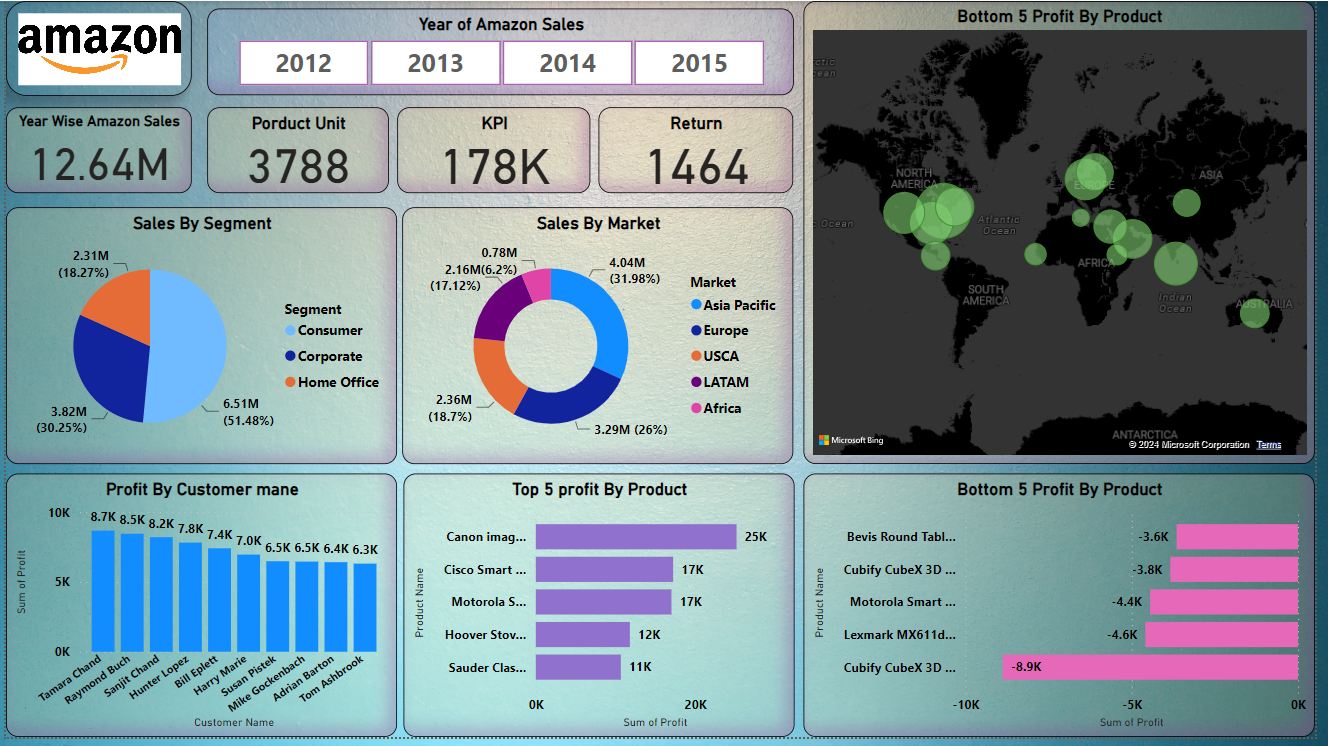

This screenshot's page, from the dashboard's own definition file:
{"tool":"powerbi","page":{"name":"Page 1","canvas":[1280,720],"ordinal":0},"visuals":[{"type":"card","title":"Year Wise Amazon Sales","fields":{"Values":["Orders.Sales"]},"box":[0,103.8,181.2,83.8],"z":0},{"type":"slicer","title":"Year of Amazon Sales","fields":{"Values":["Orders.Year"]},"box":[196.2,7.5,573.8,85],"z":1000},{"type":"image","box":[0,0,181.2,92.5],"z":2000},{"type":"card","title":"Porduct Unit","fields":{"Values":["Orders.Product ID"]},"box":[196.2,103.8,177.5,83.8],"z":3000},{"type":"card","title":"KPI","fields":{"Values":["Orders.Quantity"]},"box":[382.5,103.8,188.8,83.8],"z":4000},{"type":"card","title":"Return","fields":{"Values":["Orders.Ship Date"]},"box":[580,103.8,190,83.8],"z":4001},{"type":"pieChart","title":"Sales By Segment","fields":{"Category":["Orders.Segment"],"Y":["Orders.Sales"]},"box":[0,201.2,382.5,251.2],"z":4002},{"type":"donutChart","title":"Sales By Market","fields":{"Y":["Orders.Sales"],"Category":["Orders.Market"]},"box":[387.5,201.2,382.5,251.2],"z":4003},{"type":"columnChart","title":"Profit By Customer mane","fields":{"Y":["Orders.Profit"],"Category":["Orders.Customer Name"]},"box":[0,462.5,382.5,257.5],"z":4004},{"type":"barChart","title":"Top 5 profit By Product","fields":{"Category":["Orders.Product Name"],"Y":["Orders.Profit"]},"box":[388.8,462.5,382.5,257.5],"z":4005},{"type":"barChart","title":"Bottom 5 Profit By Product","fields":{"Category":["Orders.Product Name"],"Y":["Orders.Profit"]},"box":[780,462.5,500,257.5],"z":4006},{"type":"map","title":"Bottom 5 Profit By Product","fields":{"Category":["Orders.Region"],"Size":["Orders.Sales"]},"box":[780,0,500,452.5],"z":4007}]}

Visuals, with their boxes in screenshot pixels (x1, y1, x2, y2), scaled from the page's 1280x720 canvas onto the 1328x746 screenshot:
"Year Wise Amazon Sales" card: Rect(0, 108, 188, 194)
"Year of Amazon Sales" slicer: Rect(204, 8, 799, 96)
image: Rect(0, 0, 188, 96)
"Porduct Unit" card: Rect(204, 108, 388, 194)
"KPI" card: Rect(397, 108, 593, 194)
"Return" card: Rect(602, 108, 799, 194)
"Sales By Segment" pieChart: Rect(0, 208, 397, 469)
"Sales By Market" donutChart: Rect(402, 208, 799, 469)
"Profit By Customer mane" columnChart: Rect(0, 479, 397, 745)
"Top 5 profit By Product" barChart: Rect(403, 479, 800, 745)
"Bottom 5 Profit By Product" barChart: Rect(809, 479, 1327, 745)
"Bottom 5 Profit By Product" map: Rect(809, 0, 1327, 469)
